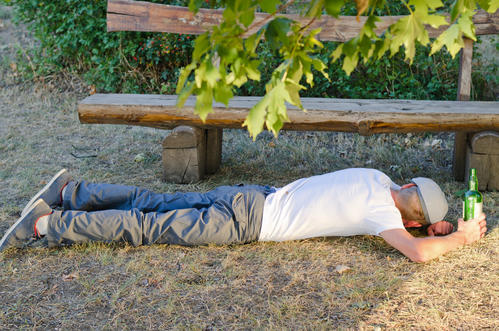fall: (19, 168, 480, 260)
